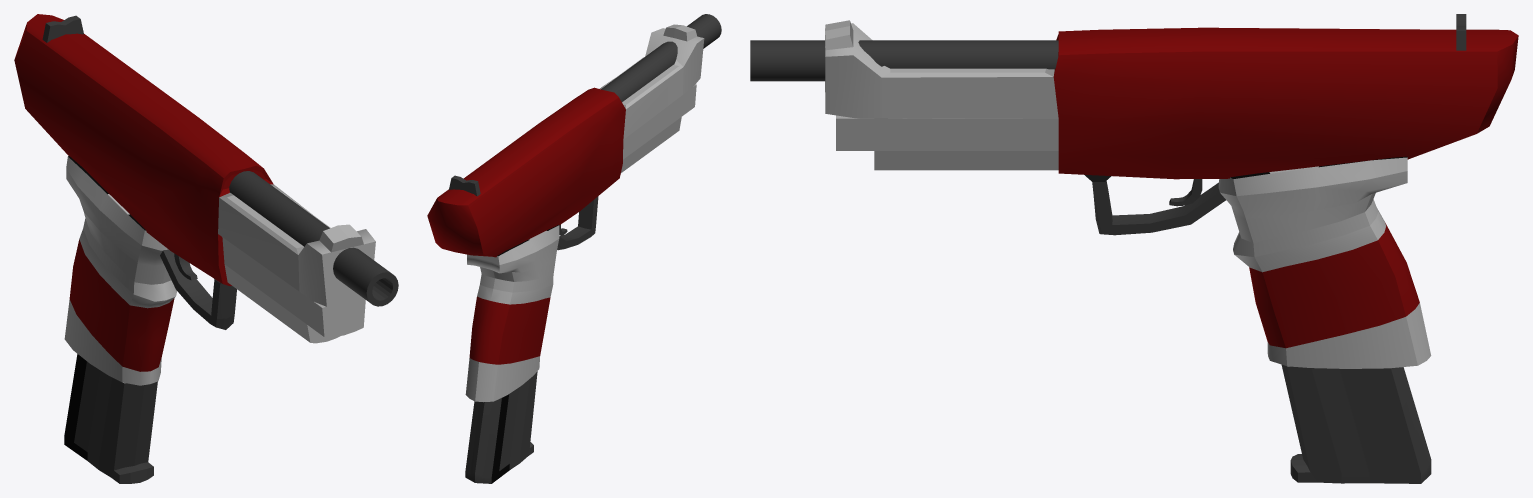
The model's file is Pistol.fbx.
3 views of the same model, side by side, from view 1: azimuth 30°, elevation 25°; view 2: azimuth 150°, elevation 25°; view 3: azimuth 270°, elevation 25° (orthographic). The views are drawn at different scales.
Visible parts, largest first — view 1: pCube7; view 2: pCube7; view 3: pCube7.
Part boxes in pixels (left/top/right/bottom): pCube7: left=14, top=14, right=398, bottom=483; pCube7: left=427, top=14, right=721, bottom=483; pCube7: left=750, top=14, right=1518, bottom=483.
Bounding box in the file's own units: 1.35 × 8 × 12.32.
